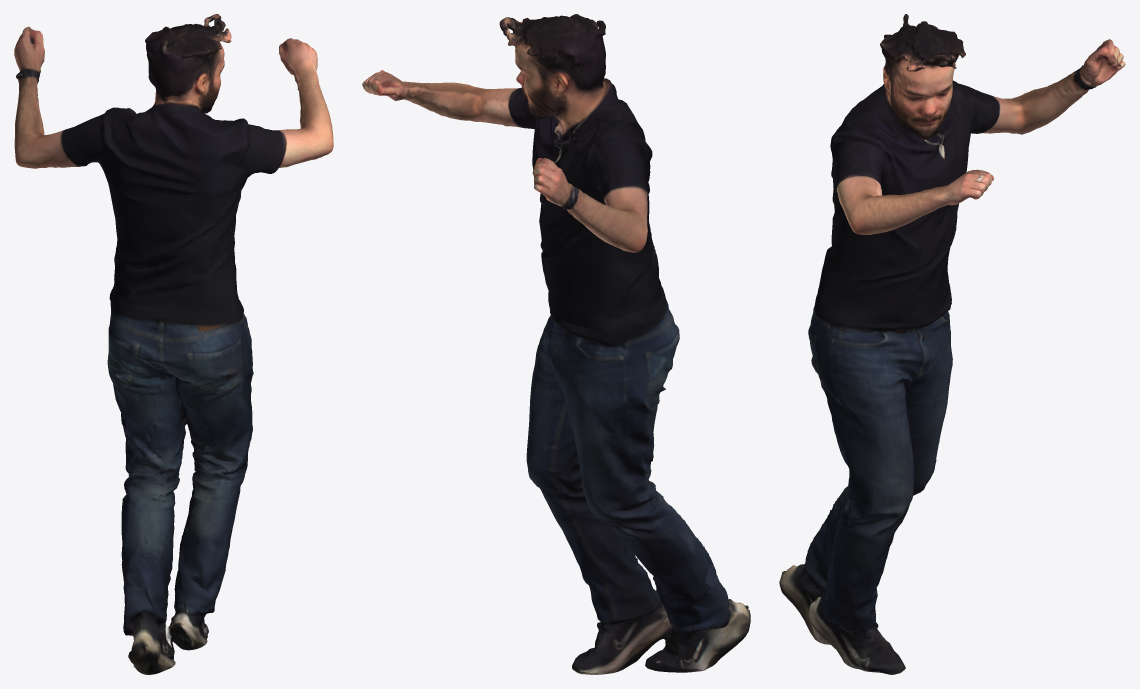
3 renders of one model, left to right at view 1: azimuth 30°, elevation 25°; view 2: azimuth 150°, elevation 25°; view 3: azimuth 270°, elevation 25°, orthographic. The views are drawn at different scales.
Visible parts, largest first — view 1: f566702_00579; view 2: f566702_00579; view 3: f566702_00579.
Part boxes in pixels (<box>): f566702_00579: <box>14,14,333,674</box>; f566702_00579: <box>362,14,750,674</box>; f566702_00579: <box>779,14,1125,674</box>.
Size of the model in its own units: 840 by 1732 by 841.
1 material, 1 textured.
